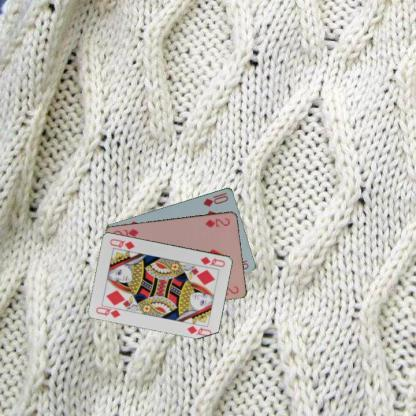10d: (201, 190, 230, 209)
2d: (203, 216, 232, 228)
Qd: (94, 302, 124, 319), (198, 254, 227, 268)
